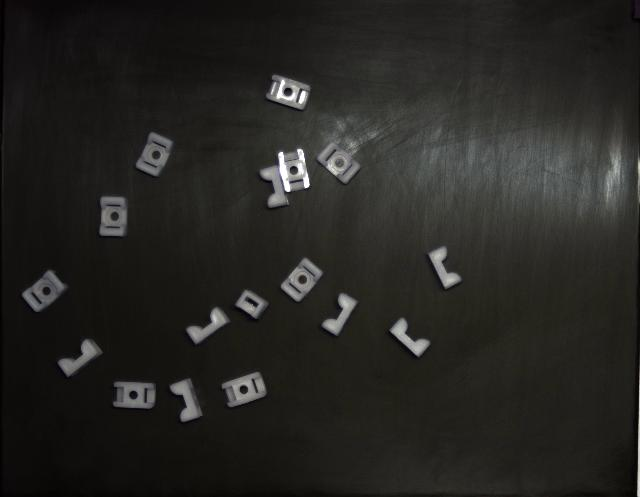first_side: (22, 270, 68, 312), (318, 142, 360, 184), (281, 259, 322, 302), (136, 132, 174, 176), (99, 196, 128, 238)
fourth_side: (235, 290, 269, 320)
second_side: (221, 372, 266, 408), (266, 75, 310, 110), (278, 149, 310, 192), (112, 382, 156, 409)
third_side: (58, 340, 102, 378), (186, 308, 230, 345), (390, 318, 430, 358), (321, 294, 358, 336), (429, 246, 461, 290), (170, 379, 202, 422), (260, 166, 289, 209)
